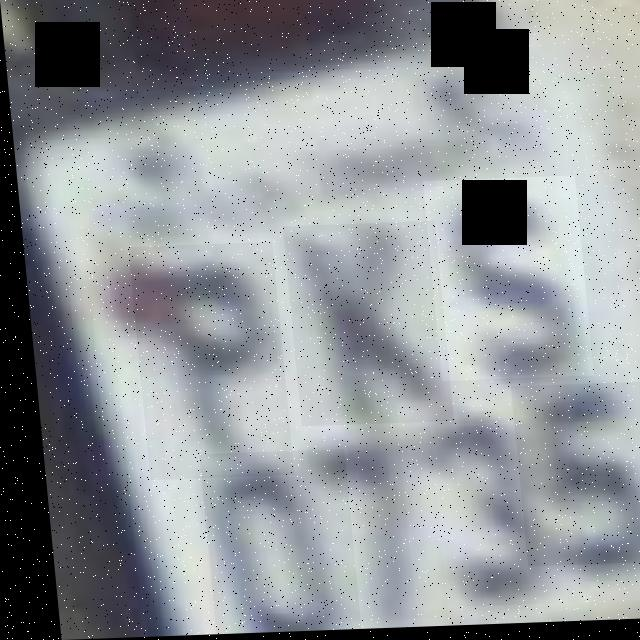0: (190, 451, 348, 635)
3: (388, 401, 556, 614)
5: (503, 386, 640, 570)
7: (297, 429, 436, 624)
P: (123, 244, 285, 481)
S: (419, 180, 586, 384)
X: (278, 224, 445, 428)
